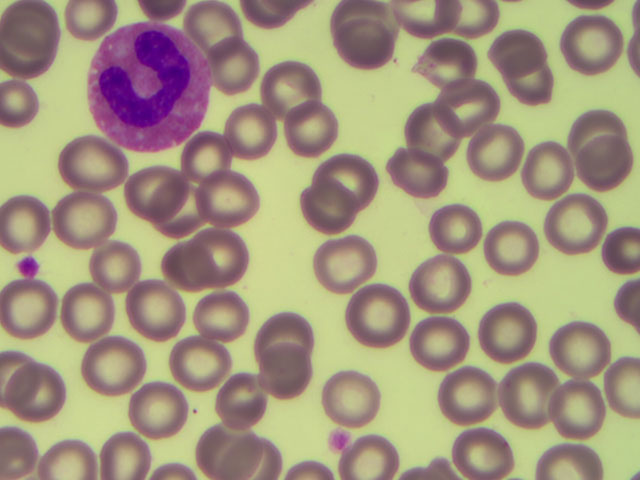Platelets: (325, 427, 351, 453)
RBC: (213, 417, 273, 480), (94, 417, 154, 480), (44, 417, 104, 480), (346, 417, 406, 480), (449, 417, 509, 480), (2, 3, 62, 65), (63, 132, 123, 194), (49, 186, 109, 248), (2, 183, 62, 245), (77, 230, 137, 292), (55, 278, 115, 340), (3, 274, 63, 336), (18, 363, 78, 425), (78, 335, 138, 397), (129, 285, 189, 347), (151, 233, 211, 295), (202, 227, 262, 289), (197, 173, 257, 235), (154, 176, 214, 238), (133, 158, 193, 220), (183, 125, 243, 187), (214, 98, 274, 160), (254, 63, 314, 125), (218, 35, 278, 97), (279, 99, 339, 161), (323, 145, 383, 207), (290, 182, 350, 244), (314, 231, 374, 293), (345, 284, 405, 346), (246, 301, 306, 363), (251, 342, 311, 404), (219, 364, 279, 426), (184, 410, 244, 472), (166, 336, 226, 398), (196, 285, 256, 347), (131, 380, 191, 442), (319, 360, 379, 422), (432, 369, 492, 431), (410, 314, 470, 376), (415, 247, 475, 309), (425, 204, 485, 266), (386, 150, 446, 212), (401, 101, 461, 163), (445, 80, 505, 142), (416, 36, 476, 98), (325, 20, 385, 82), (482, 15, 542, 77), (505, 50, 565, 112), (560, 13, 620, 75), (568, 96, 628, 158), (576, 126, 636, 188), (546, 189, 606, 251), (508, 143, 568, 205), (473, 116, 533, 178), (482, 218, 542, 280), (475, 295, 535, 357), (498, 365, 558, 427), (551, 380, 611, 442), (548, 316, 608, 378), (53, 1, 113, 62), (194, 1, 254, 62), (538, 441, 613, 480), (14, 256, 44, 279)
WBC: (84, 25, 214, 154)
